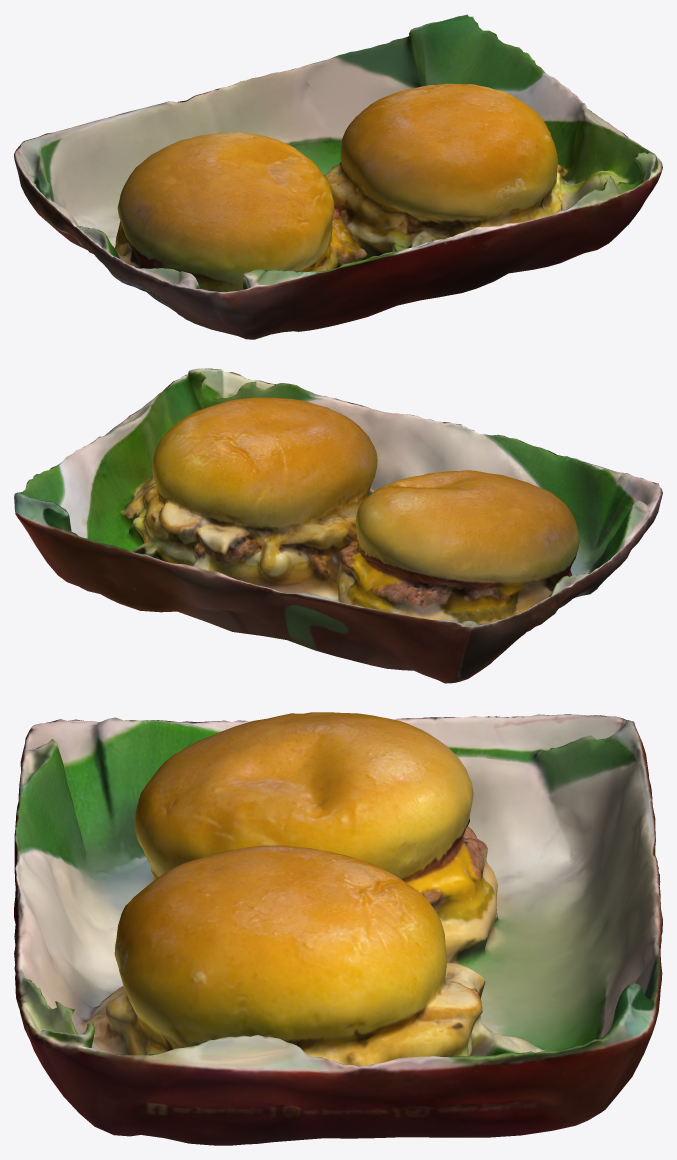
File: Mushroom_and_Mr_Smokey_Burgers(Burgers_Category)_1757009563301.glb
3 views of the same model, one above another, from view 1: azimuth 30°, elevation 25°; view 2: azimuth 150°, elevation 25°; view 3: azimuth 270°, elevation 25° (orthographic). The views are drawn at different scales.
Parts seen in each view (by area): view 1: 3D_Model; view 2: 3D_Model; view 3: 3D_Model.
Part boxes in pixels (bbox=[...]): 3D_Model: bbox=[14, 14, 662, 339]; 3D_Model: bbox=[14, 368, 662, 683]; 3D_Model: bbox=[14, 712, 662, 1145].
Bounding box in the file's own units: 51.57 × 13.53 × 38.34.
Materials: 1 (1 with a texture image).
